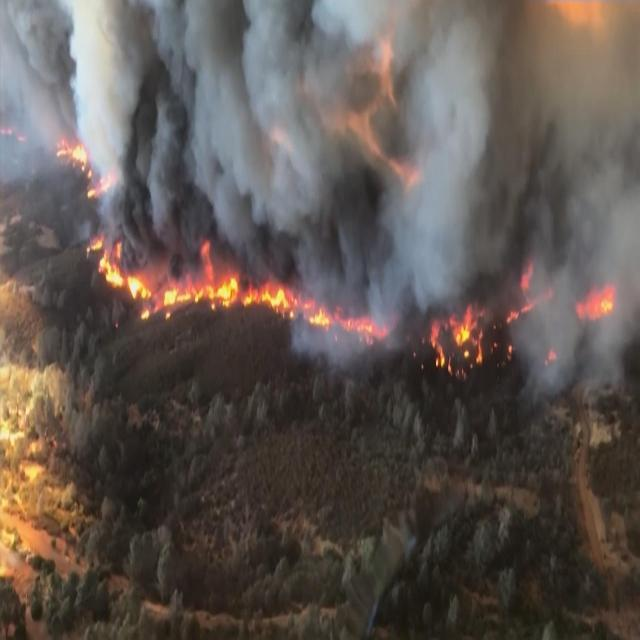Fire: (0, 160, 640, 380)
Smoke: (1, 0, 640, 138)
